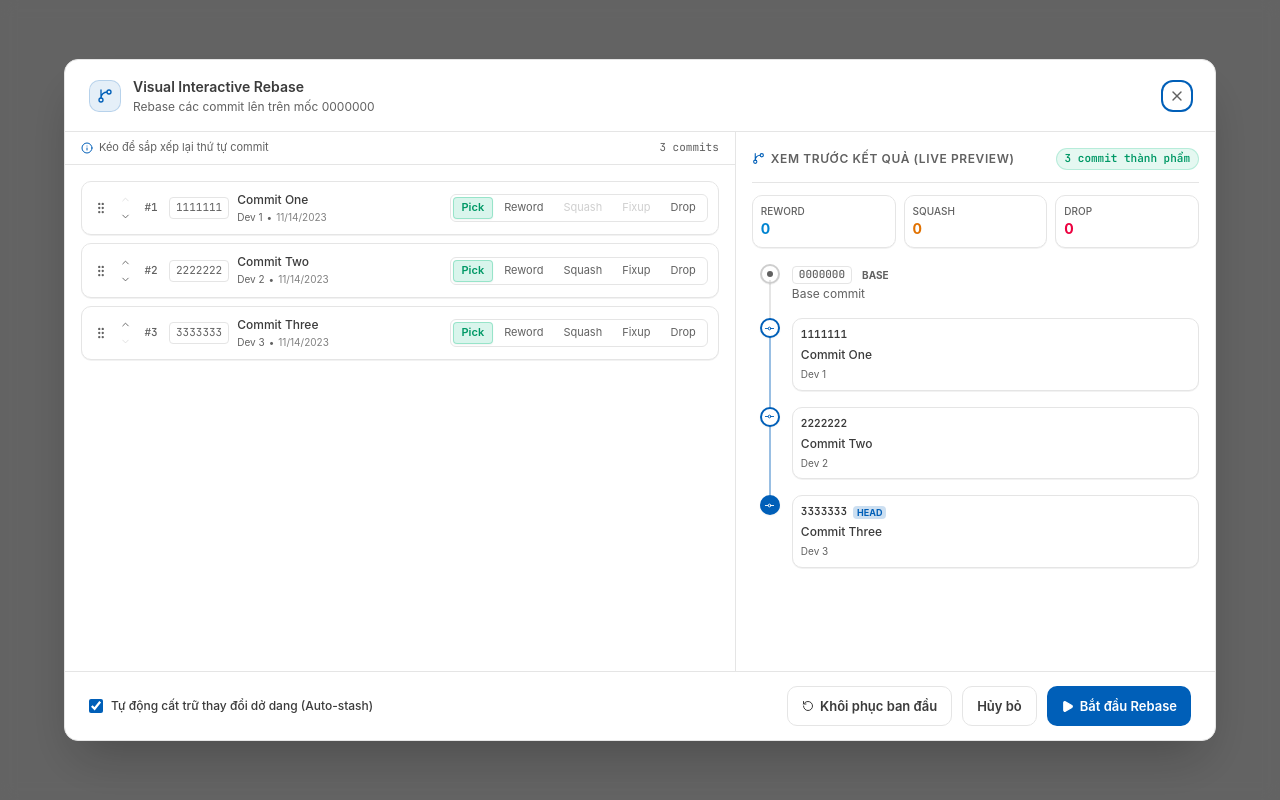
InteractiveRebaseModal › updates live preview metrics when actions change
This screenshot has width=1280, height=800.
Expected: the text "Commit Three" below "Kéo để sắp xếp lại thứ tự commit" is shown, top-left (237, 317), bottom-right (318, 332)
# Drop commit 3
Step 1. Click the 3rd button "Drop" → (683, 333), box top-left (662, 322), bottom-right (705, 344)
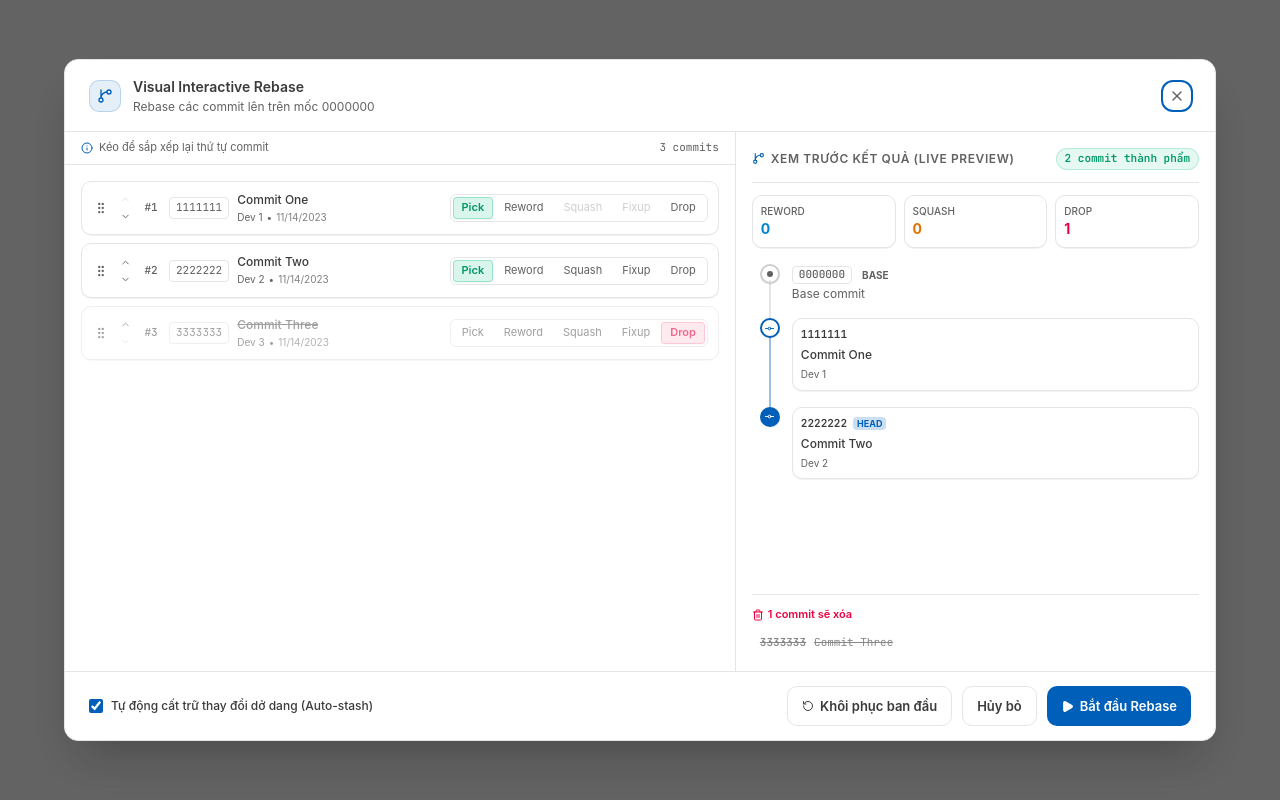
Result: the text "1" is shown at top-left (1064, 220), bottom-right (1070, 237)
